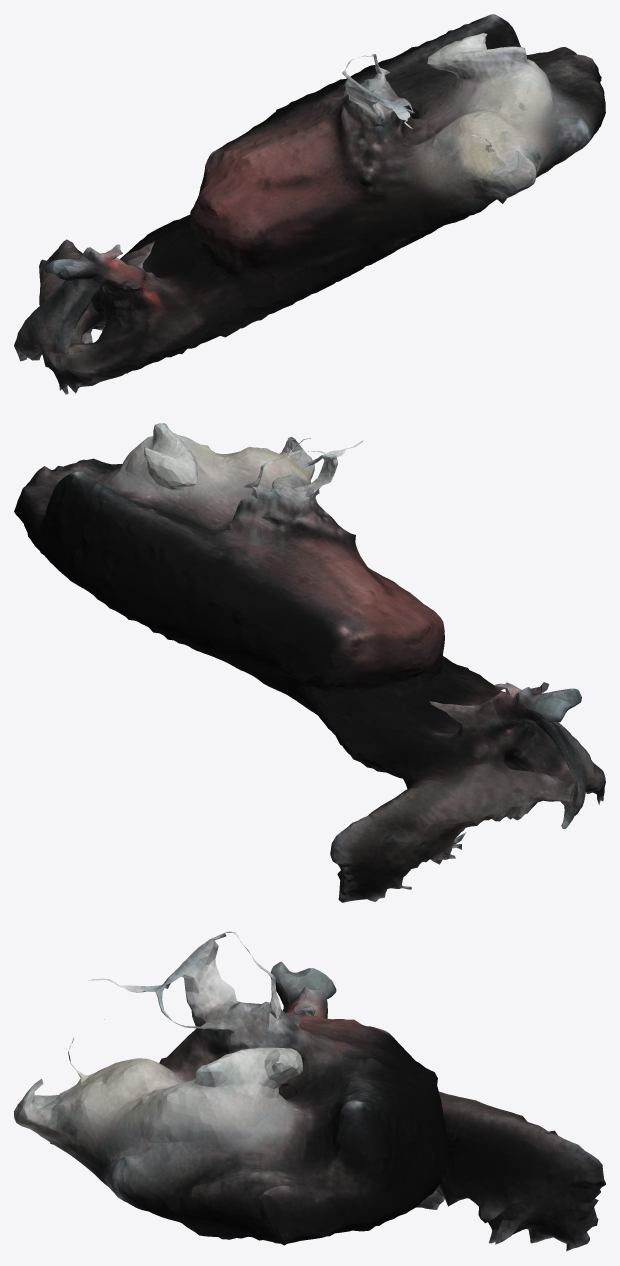
The model's file is IMG_SEG_49.glb.
3 views of the same model, one above another, from view 1: azimuth 30°, elevation 25°; view 2: azimuth 150°, elevation 25°; view 3: azimuth 270°, elevation 25° (orthographic). The views are drawn at different scales.
Bounding box in the file's own units: 1.1 × 0.5765 × 0.7363.
1 material, 1 textured.
